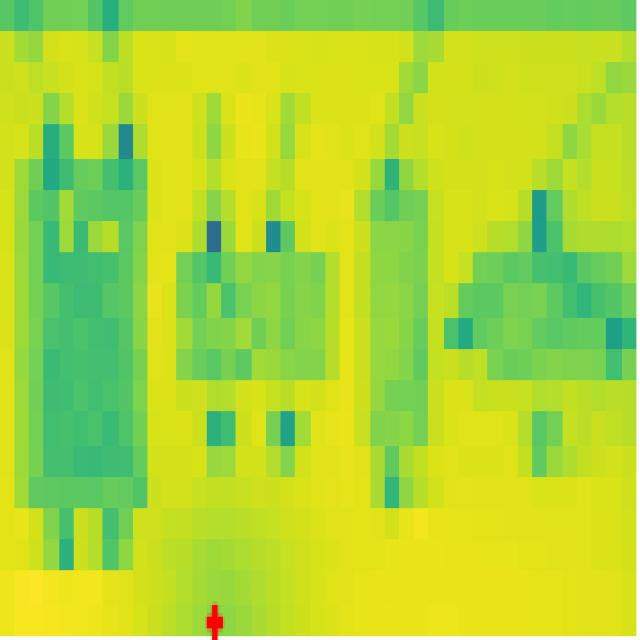Concrete: (17, 164, 149, 511)
Glass: (466, 255, 627, 399)
Metal: (174, 253, 337, 382)
Wood: (353, 192, 429, 446)
